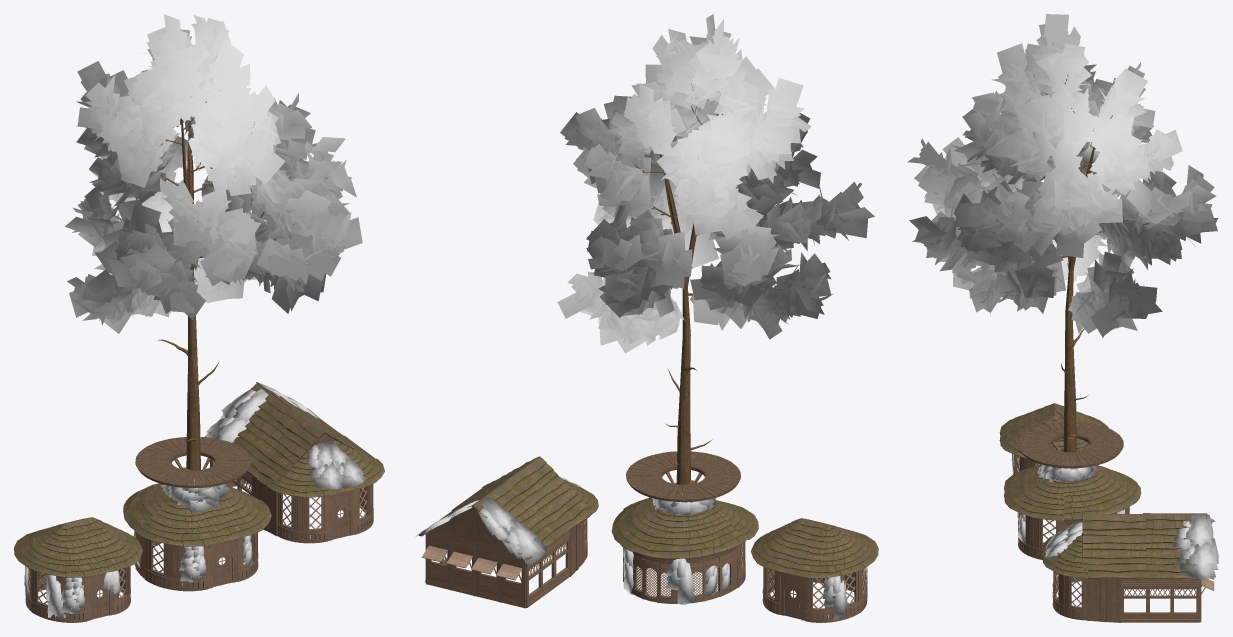
Rendered from Fancy_Huts_A1.fbx.
3 views of the same model, side by side, from view 1: azimuth 30°, elevation 25°; view 2: azimuth 150°, elevation 25°; view 3: azimuth 270°, elevation 25° (orthographic). The views are drawn at different scales.
Parts seen in each view (by area): view 1: Fancy_Hut_1A2_Tree, Fancy_Hut_1A3, Fancy_Hut_1A2, Fancy_Hut_1A1, Fancy_Hut_1A2_Platform, Fancy_Hut_1A3_Ivy, Fancy_Hut_1A2_Ivy, Fancy_Hut_1A1_Ivy, Fancy_Hut_1A2_door; view 2: Fancy_Hut_1A2_Tree, Fancy_Hut_1A3, Fancy_Hut_1A2, Fancy_Hut_1A1, Fancy_Hut_1A2_Platform, Fancy_Hut_1A2_Ivy, Fancy_Hut_1A3_Ivy, Fancy_Hut_1A1_Ivy; view 3: Fancy_Hut_1A2_Tree, Fancy_Hut_1A3, Fancy_Hut_1A2, Fancy_Hut_1A2_Platform, Fancy_Hut_1A3_Ivy, Fancy_Hut_1A1, Fancy_Hut_1A2_Ivy.
Part boxes in pixels (x1,y1,x2,y2): Fancy_Hut_1A2_Tree: [65, 14, 362, 475]; Fancy_Hut_1A3: [205, 382, 384, 543]; Fancy_Hut_1A2: [123, 483, 271, 591]; Fancy_Hut_1A1: [14, 517, 142, 622]; Fancy_Hut_1A2_Platform: [135, 437, 251, 488]; Fancy_Hut_1A3_Ivy: [204, 383, 366, 489]; Fancy_Hut_1A2_Ivy: [133, 478, 252, 582]; Fancy_Hut_1A1_Ivy: [24, 566, 120, 619]; Fancy_Hut_1A2_door: [212, 554, 232, 586]; Fancy_Hut_1A2_Tree: [557, 14, 874, 489]; Fancy_Hut_1A3: [418, 456, 598, 608]; Fancy_Hut_1A2: [611, 497, 758, 603]; Fancy_Hut_1A1: [751, 518, 878, 622]; Fancy_Hut_1A2_Platform: [626, 451, 740, 502]; Fancy_Hut_1A2_Ivy: [623, 482, 730, 604]; Fancy_Hut_1A3_Ivy: [415, 476, 581, 564]; Fancy_Hut_1A1_Ivy: [822, 566, 867, 620]; Fancy_Hut_1A2_Tree: [907, 14, 1217, 452]; Fancy_Hut_1A3: [1042, 513, 1214, 622]; Fancy_Hut_1A2: [1004, 464, 1140, 559]; Fancy_Hut_1A2_Platform: [1018, 421, 1123, 468]; Fancy_Hut_1A3_Ivy: [1045, 513, 1218, 579]; Fancy_Hut_1A1: [999, 403, 1108, 473]; Fancy_Hut_1A2_Ivy: [1017, 460, 1125, 542].
Bounding box in the file's own units: 2993 × 4323 × 2367.
